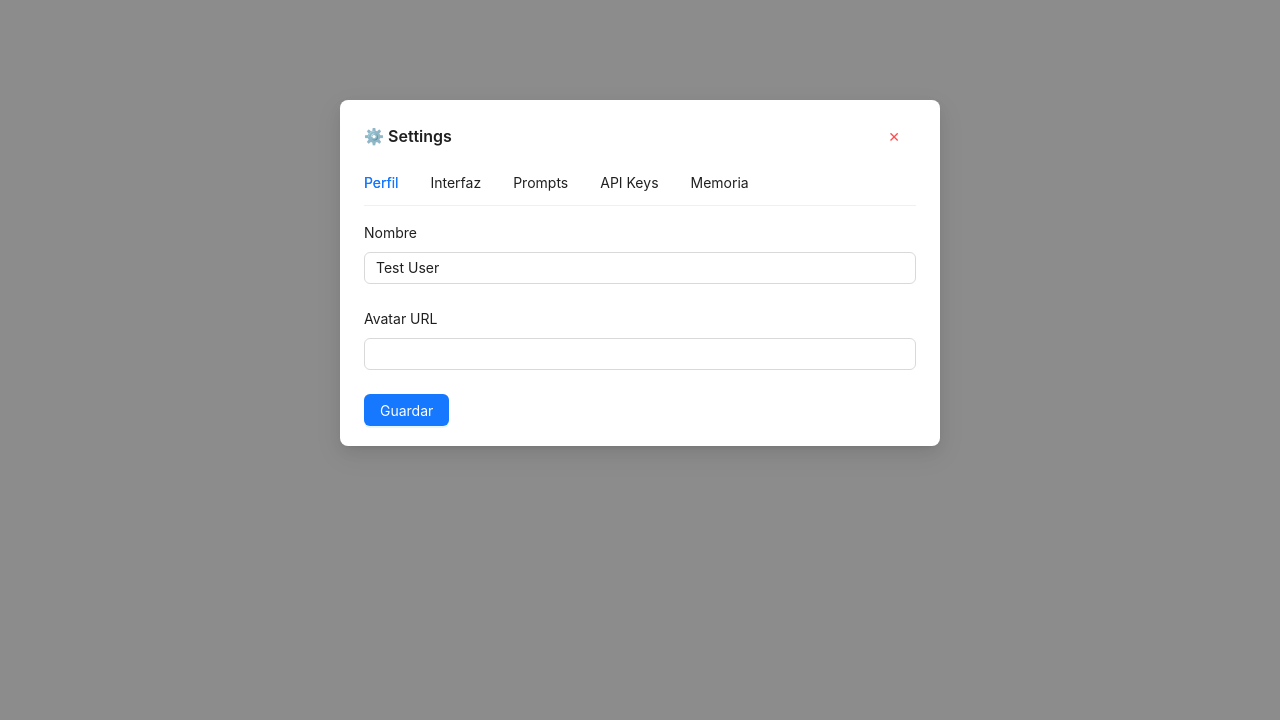
Test: SettingsDialog › saves profile when submitting Perfil tab
This screenshot has width=1280, height=720.
Replace the text in the field labelled "Nombre" with "Juan" at (640, 268), box [364,252,916,284]
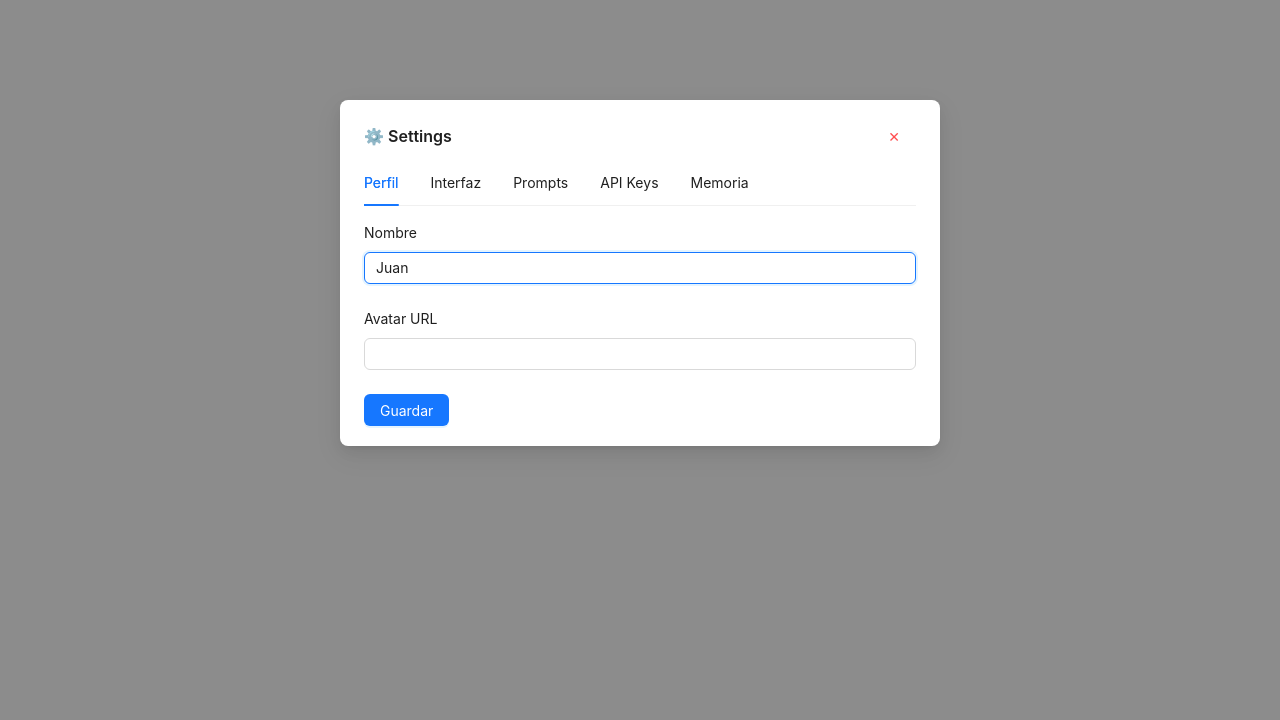
Click the button "Guardar" at (407, 410), box [364,394,449,426]
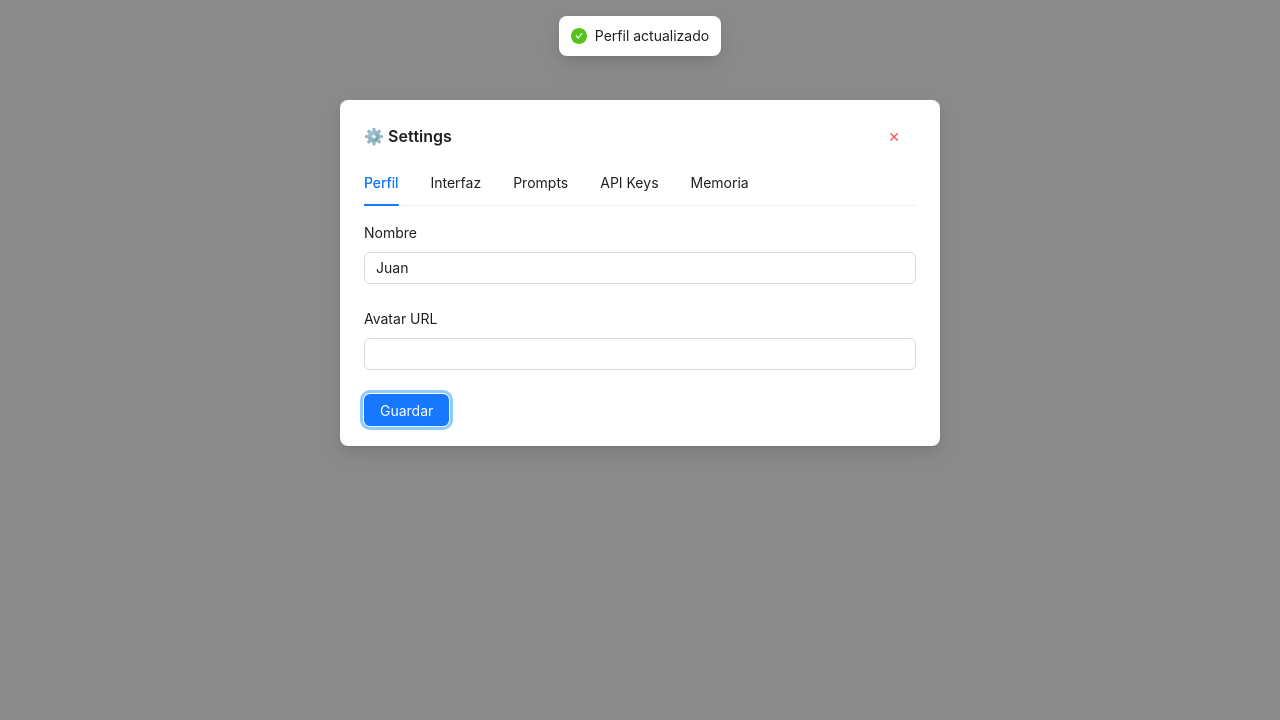
Check: the text "Perfil actualizado" is shown, box [595,25,709,47]
